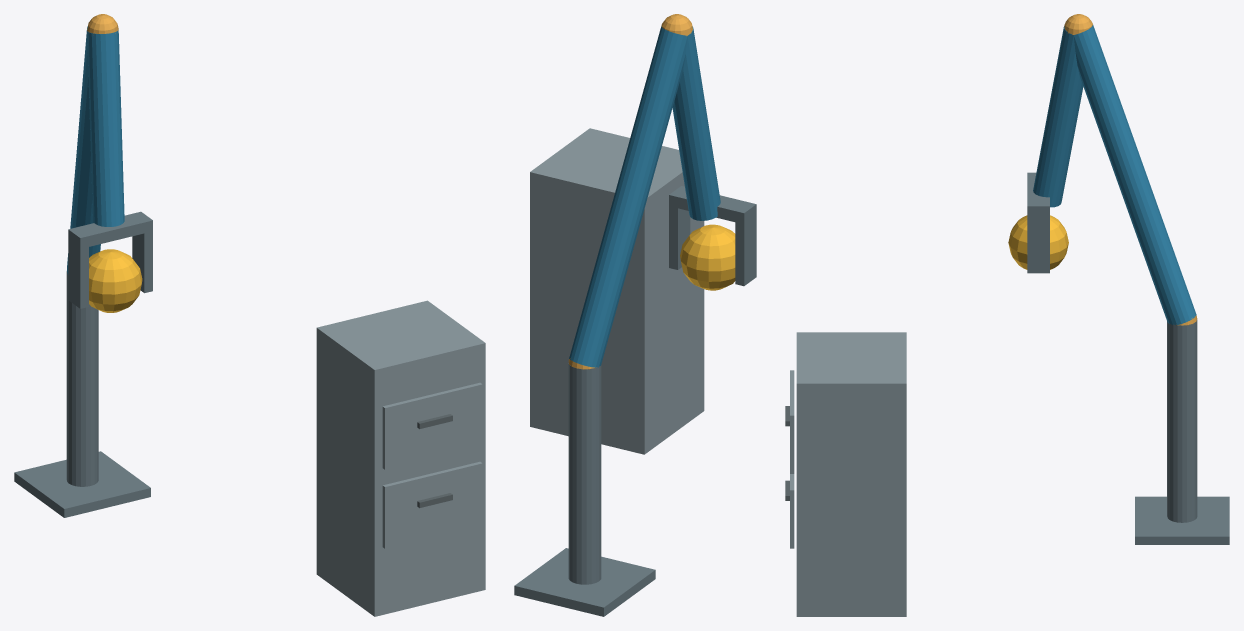
3 views of the same model, side by side, from view 1: azimuth 30°, elevation 25°; view 2: azimuth 150°, elevation 25°; view 3: azimuth 270°, elevation 25° (orthographic). The views are drawn at different scales.
Parts seen in each view (by area): view 1: cabinet_1 body, cabinet_1 drawer front.001, cabinet_1 drawer front, moving link 2, fixed post, pedestal, ball ball_1, moving link 1, gripper bridge, gripper finger -1, gripper finger 1; view 2: cabinet_1 body, moving link 1, fixed post, moving link 2, pedestal, ball ball_1, gripper finger -1, gripper bridge, gripper finger 1, joint 2; view 3: cabinet_1 body, moving link 1, fixed post, moving link 2, pedestal, ball ball_1, gripper finger 1, gripper bridge.
Part boxes in pixels (box(x1,y1,x2,y2)): cabinet_1 body: box(316, 300, 485, 616); cabinet_1 drawer front.001: box(382, 382, 482, 469); cabinet_1 drawer front: box(382, 461, 482, 548); moving link 2: box(87, 30, 124, 226); fixed post: box(66, 271, 98, 486); pedestal: box(14, 451, 150, 517); ball ball_1: box(89, 249, 142, 312); moving link 1: box(67, 26, 100, 274); gripper bridge: box(68, 211, 152, 248); gripper finger -1: box(68, 240, 88, 308); gripper finger 1: box(132, 231, 152, 293); cabinet_1 body: box(530, 128, 704, 454); moving link 1: box(569, 26, 687, 367); fixed post: box(568, 363, 601, 584); moving link 2: box(672, 26, 720, 220); pedestal: box(514, 548, 655, 616); ball ball_1: box(680, 224, 735, 290); gripper finger -1: box(735, 215, 756, 286); gripper bridge: box(669, 186, 756, 224); gripper finger 1: box(669, 206, 690, 269); joint 2: box(661, 14, 692, 36); cabinet_1 body: box(796, 332, 906, 616); moving link 1: box(1073, 25, 1196, 325); fixed post: box(1167, 320, 1197, 522); moving link 2: box(1033, 26, 1083, 207); pedestal: box(1135, 496, 1229, 544); ball ball_1: box(1008, 215, 1068, 269); gripper finger 1: box(1027, 216, 1049, 273); gripper bridge: box(1027, 172, 1049, 216).
Size of the model in its own units: 0.8172 by 1.44 by 1.17.
